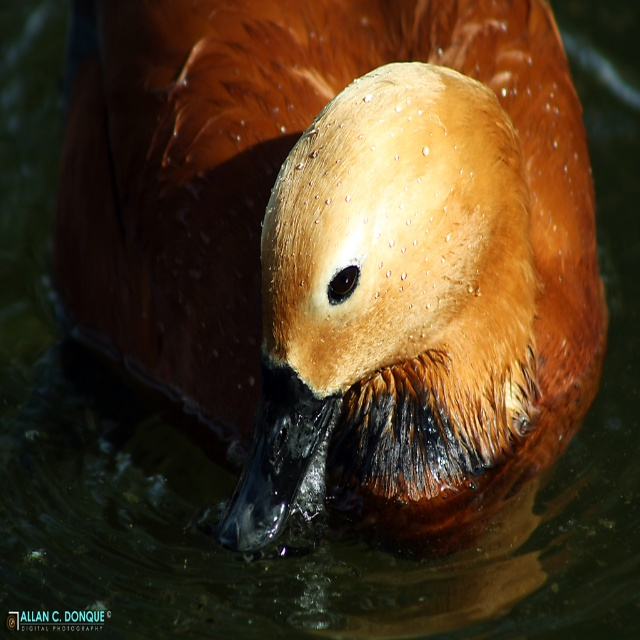Duck: (52, 0, 609, 561)
